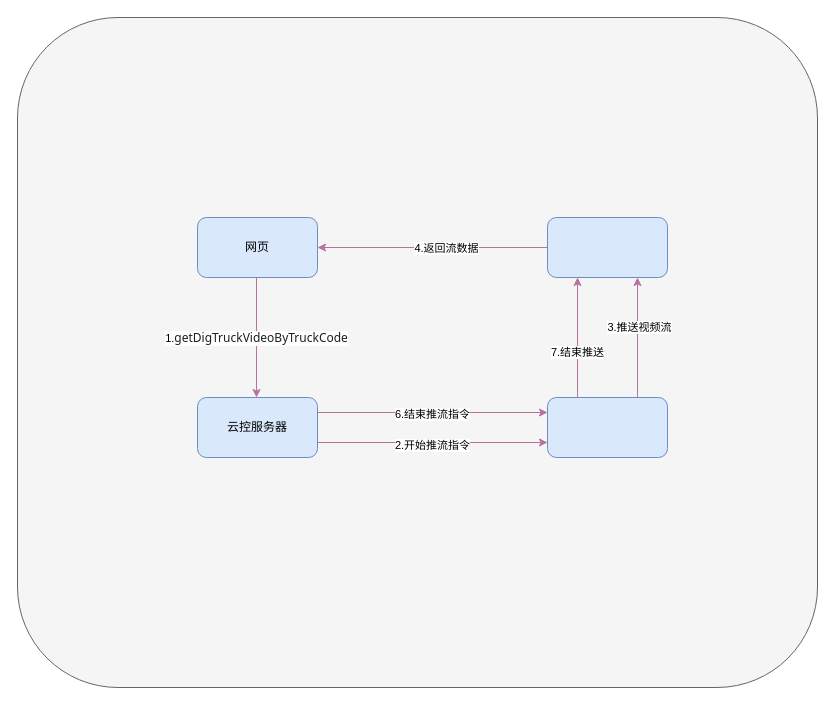
Image size: 835x705. Some labels were removed from this diagram. The shapes that lost their labels are listed below. From the top down, each one's centre as x and y in pixels, then its label:
(607,247): 流服务器
(607,427): MDC
